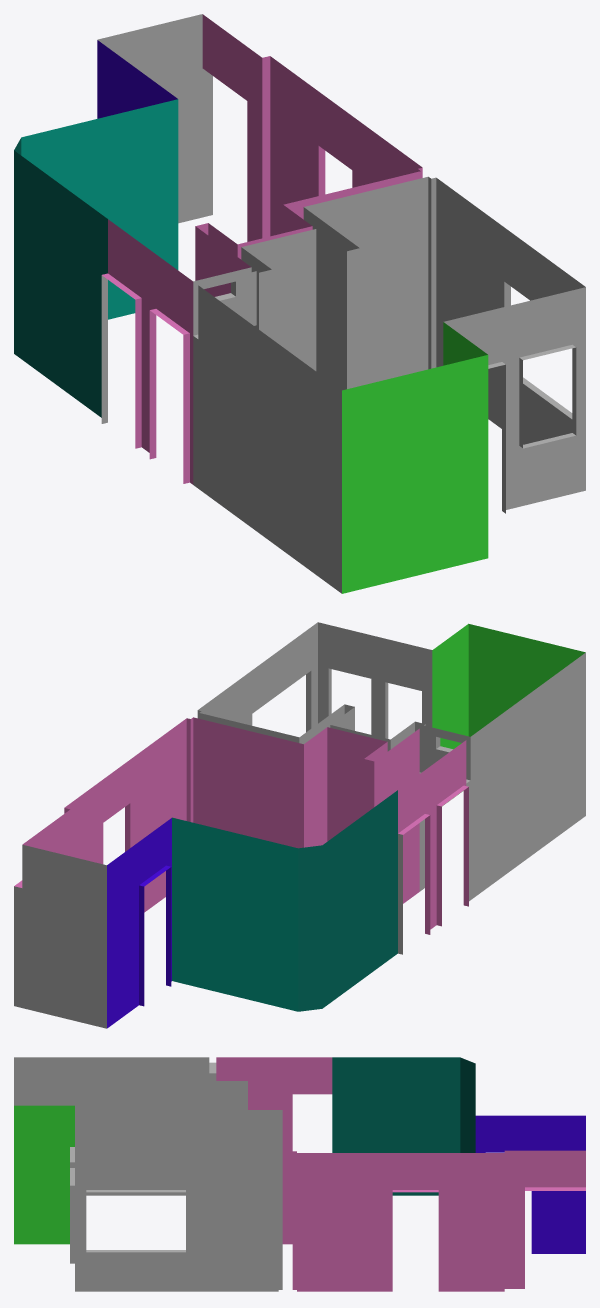
The model's file is SeparatedWalls.fbx.
The picture shows the model from 3 angles, top to bottom: view 1: azimuth 30°, elevation 25°; view 2: azimuth 150°, elevation 25°; view 3: azimuth 270°, elevation 25°; orthographic projection. The views are drawn at different scales.
Visible parts, largest first — view 1: OtherWalls, GreenWall; view 2: OtherWalls, GreenWall; view 3: OtherWalls, GreenWall.
Part boxes in pixels (bbox=[...]): OtherWalls: bbox=[14, 14, 585, 593]; GreenWall: bbox=[342, 322, 488, 593]; OtherWalls: bbox=[14, 622, 585, 1028]; GreenWall: bbox=[432, 623, 585, 806]; OtherWalls: bbox=[14, 1057, 585, 1291]; GreenWall: bbox=[14, 1105, 74, 1244].
Bounding box in the file's own units: 466 × 300 × 1124.
